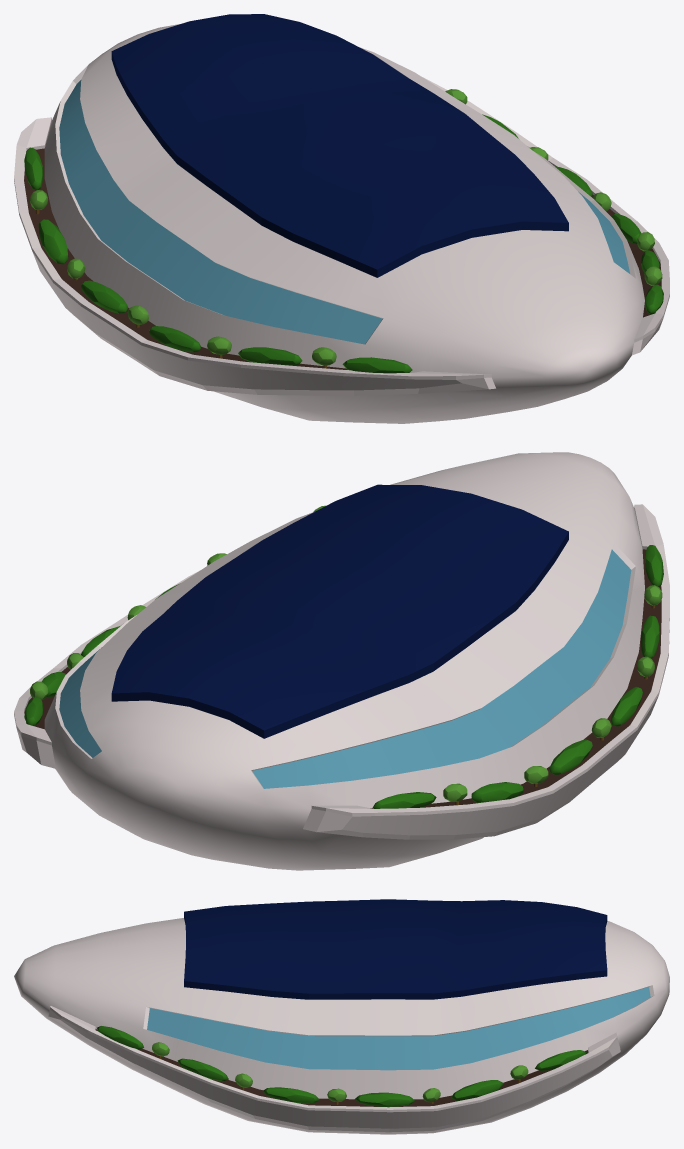
File: Boat_Environmental.fbx
3 views of the same model, one above another, from view 1: azimuth 30°, elevation 25°; view 2: azimuth 150°, elevation 25°; view 3: azimuth 270°, elevation 25° (orthographic). The views are drawn at different scales.
Parts seen in each view (by area): view 1: pCylinder7; view 2: pCylinder7; view 3: pCylinder7.
Boxes of the visible parts, x1=… form: pCylinder7: x1=14, y1=14, x2=669, y2=423; pCylinder7: x1=14, y1=452, x2=669, y2=870; pCylinder7: x1=14, y1=899, x2=669, y2=1134.
Size of the model in its own units: 32.78 by 14.69 by 49.55.
